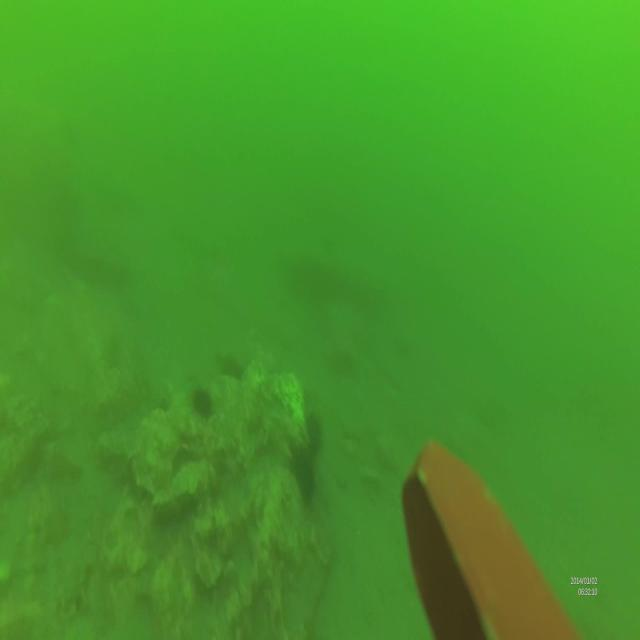echinus: (288, 447, 316, 501), (301, 410, 326, 454), (190, 386, 212, 423)
